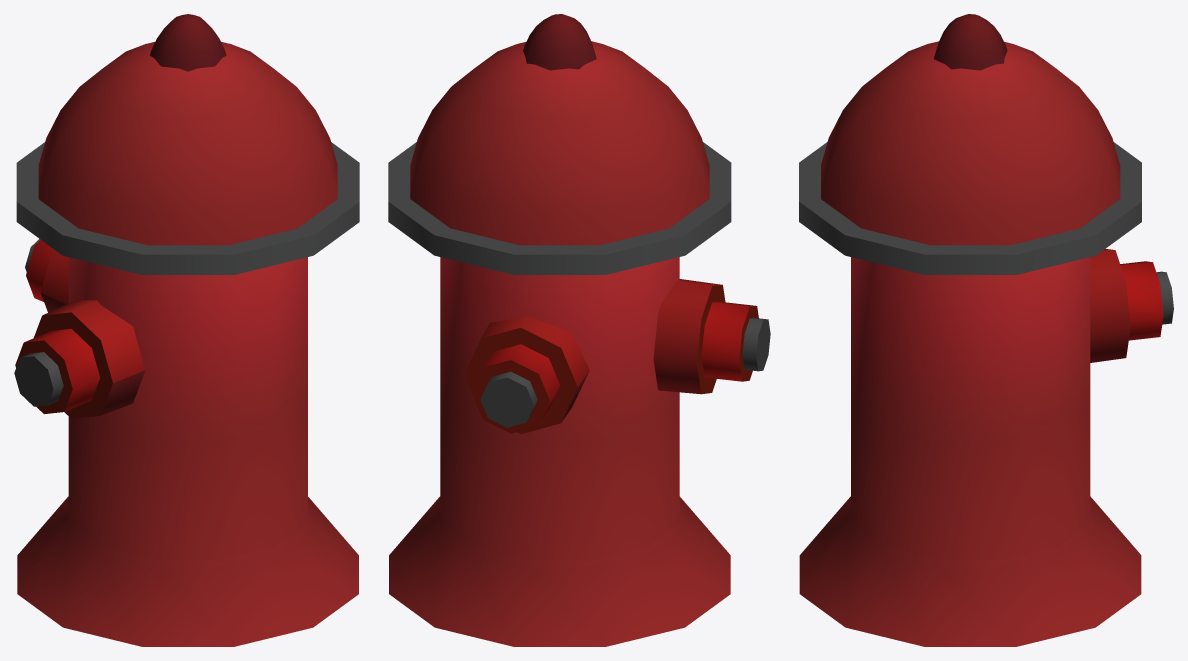
The model's file is Fire.fbx.
3 renders of one model, left to right at view 1: azimuth 30°, elevation 25°; view 2: azimuth 150°, elevation 25°; view 3: azimuth 270°, elevation 25°, orthographic.
Visible parts, largest first — view 1: Fire hydrant; view 2: Fire hydrant; view 3: Fire hydrant.
Part boxes in pixels (<box>): Fire hydrant: <box>14,14,359,646</box>; Fire hydrant: <box>388,14,770,646</box>; Fire hydrant: <box>799,14,1173,646</box>.
Bounding box in the file's own units: 24.24 × 38.78 × 23.59.
